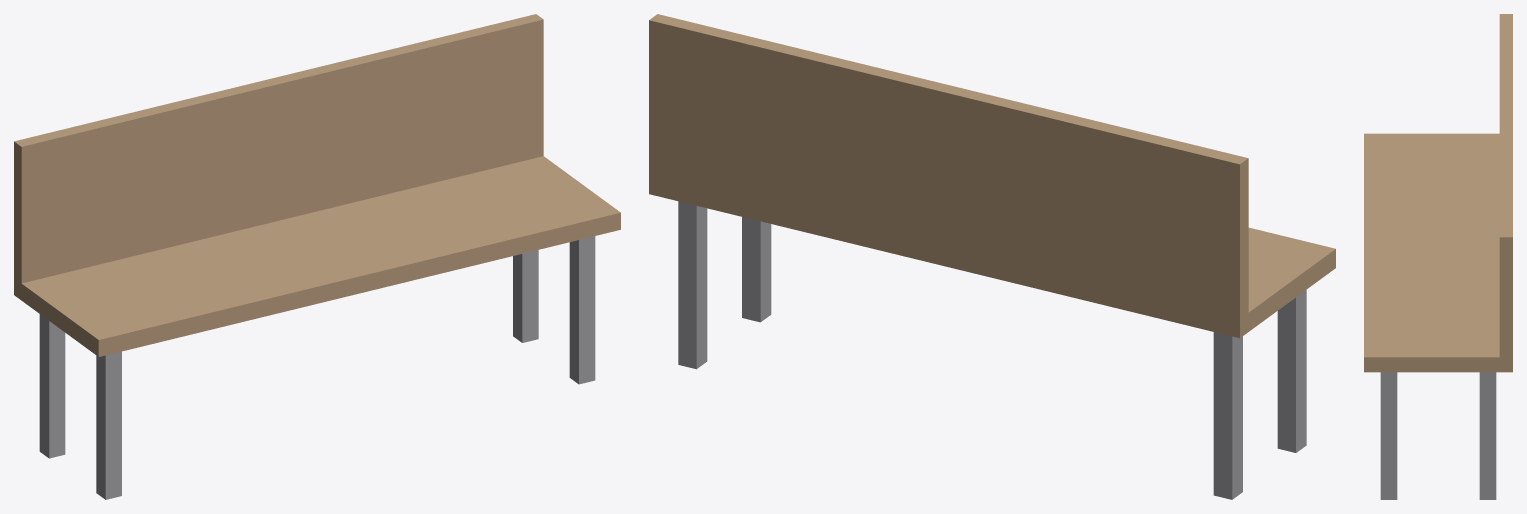
The model's file is mod_bench_a.glb.
The picture shows the model from 3 angles, left to right: view 1: azimuth 30°, elevation 25°; view 2: azimuth 150°, elevation 25°; view 3: azimuth 270°, elevation 25°; orthographic projection. The views are drawn at different scales.
Visible parts, largest first — view 1: back, seat, leg2, leg1, leg3, leg4; view 2: back, seat, leg3, leg4, leg1, leg2; view 3: seat, back, leg2, leg4.
Part boxes in pixels (box(x1,y1,x2,y2)): back: box(14, 14, 543, 283); seat: box(14, 156, 620, 356); leg2: box(569, 236, 595, 384); leg1: box(96, 351, 121, 499); leg3: box(39, 314, 65, 458); leg4: box(513, 250, 538, 342); back: box(649, 14, 1248, 318); seat: box(649, 175, 1335, 338); leg3: box(1213, 332, 1242, 499); leg4: box(678, 201, 707, 369); leg1: box(1277, 290, 1306, 452); leg2: box(742, 217, 771, 322); seat: box(1364, 133, 1512, 372); back: box(1499, 14, 1512, 357); leg2: box(1380, 372, 1397, 499); leg4: box(1479, 372, 1496, 499).
Bounding box in the file's own units: 1.6 × 0.9 × 0.45.
